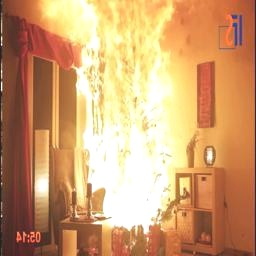fire: (26, 0, 201, 234)
